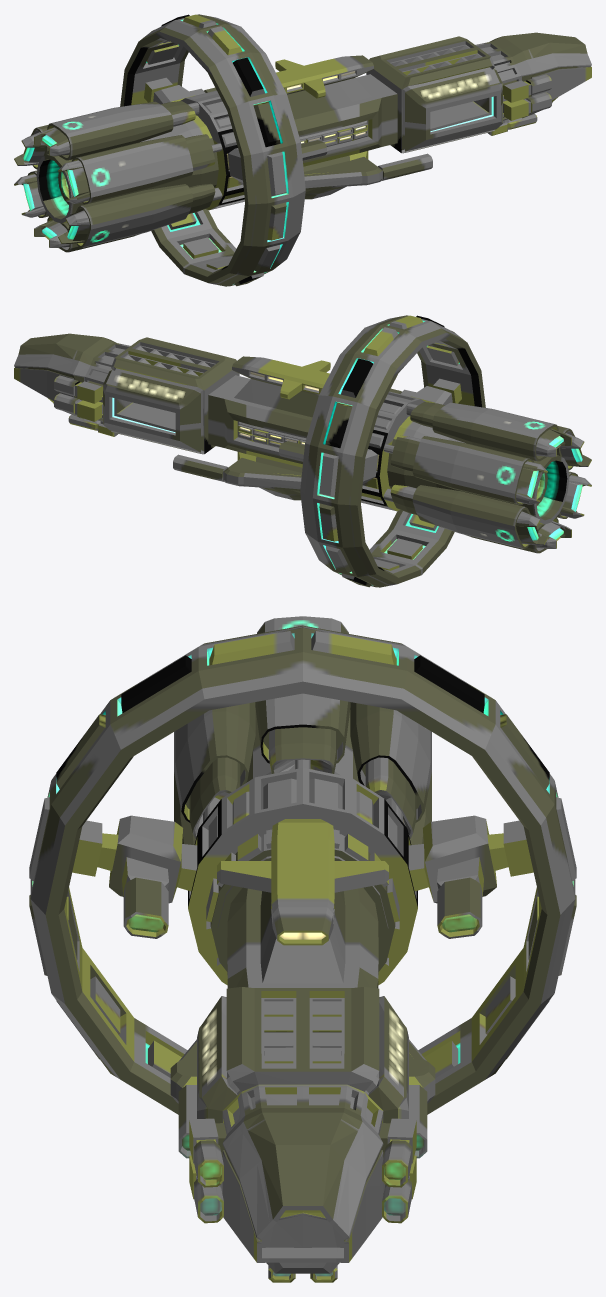
The picture shows the model from 3 angles, top to bottom: view 1: azimuth 30°, elevation 25°; view 2: azimuth 150°, elevation 25°; view 3: azimuth 270°, elevation 25°; orthographic projection. The views are drawn at different scales.
Parts seen in each view (by area): view 1: Null_1; view 2: Null_1; view 3: Null_1.
Boxes of the visible parts, x1,y1,x2,y2 form: Null_1: (14, 14, 591, 286); Null_1: (14, 315, 591, 587); Null_1: (29, 616, 576, 1282).
Size of the model in its own units: 49422 by 21968 by 21735.
